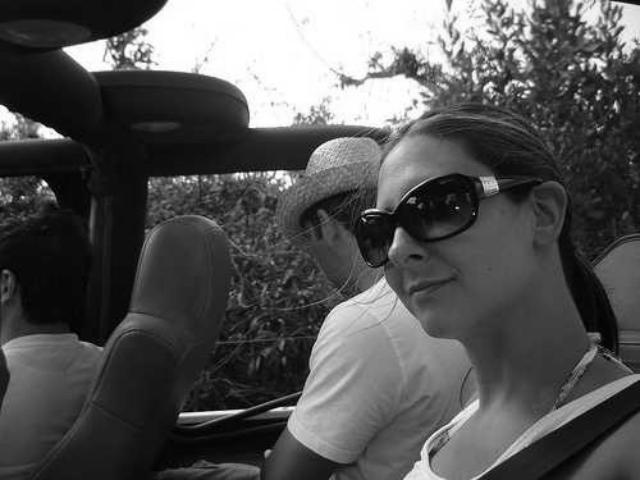Seatbelt: (470, 362, 640, 480)
